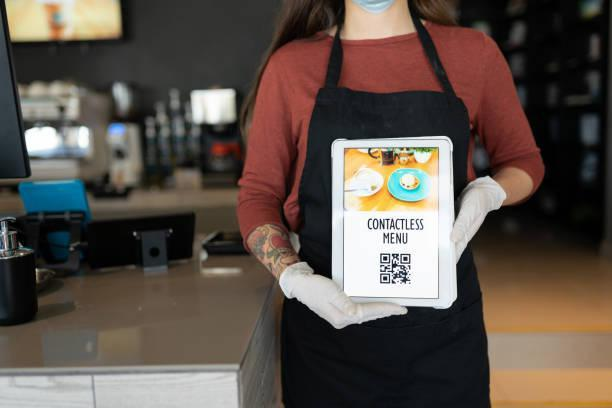qr_code: (380, 253, 411, 284)
